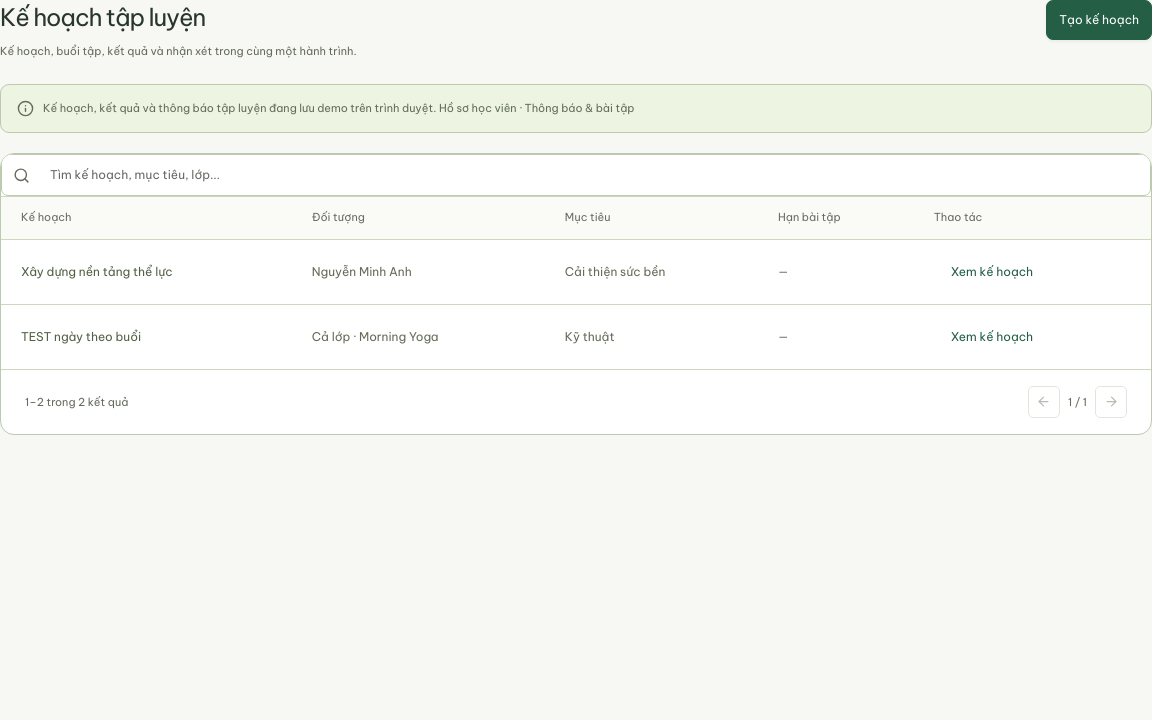
Test case: Các luồng frontend còn lại trong topic › initializes training result date from the selected class session
The width and height of the screenshot is (1152, 720).
Click the button "Xem kế hoạch" in the row of "TEST ngày theo buổi". click: {"x": 992, "y": 337}
box: [934,317,1050,357]
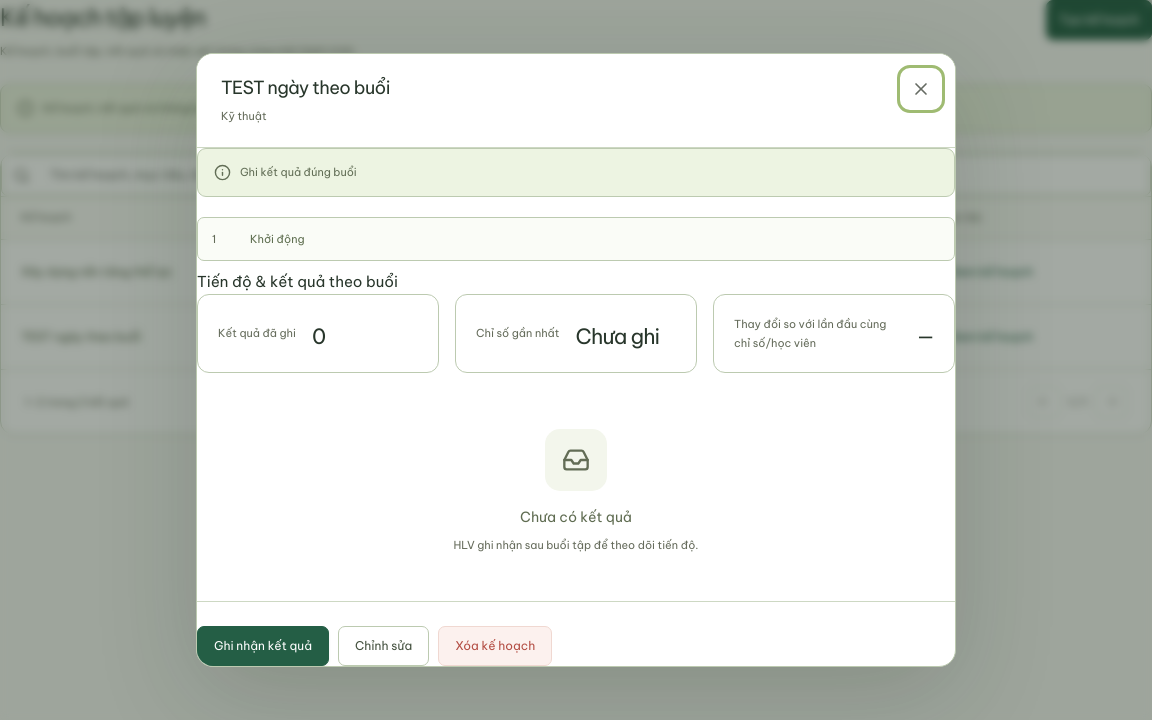
Click the button "Ghi nhận kết quả". click: {"x": 263, "y": 646}
box: [197,626,329,666]
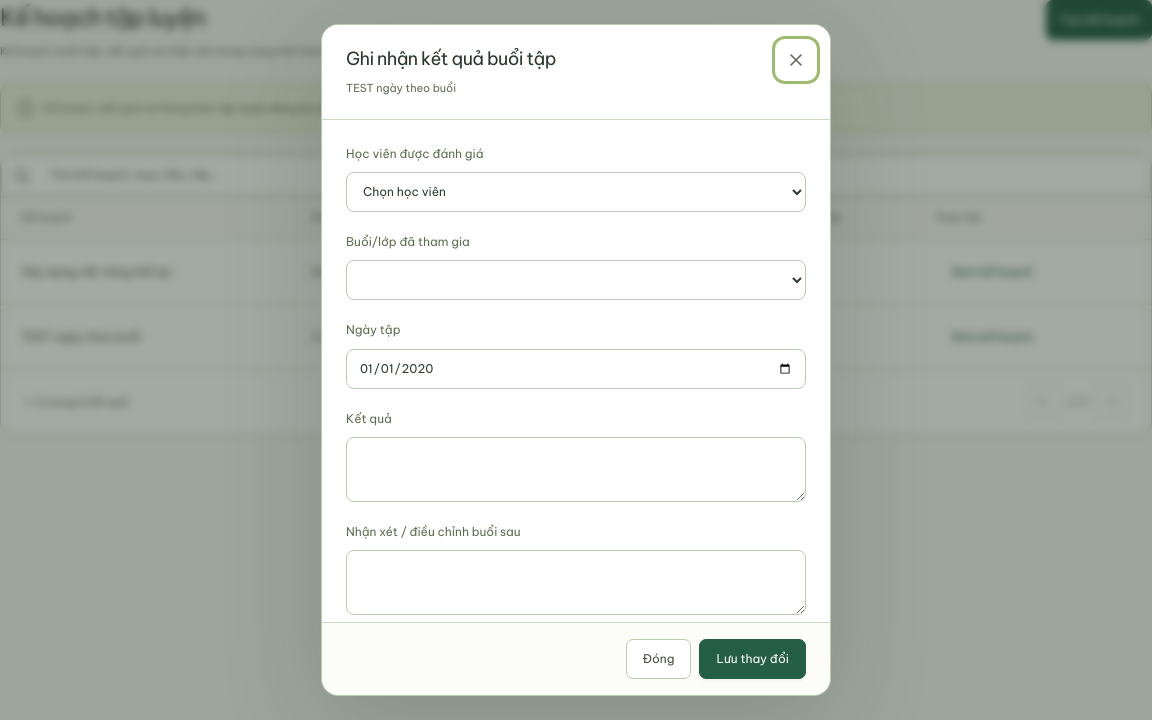
Result: the date field labelled "Ngày tập" holds "2020-01-01" at [346,349,806,389]
